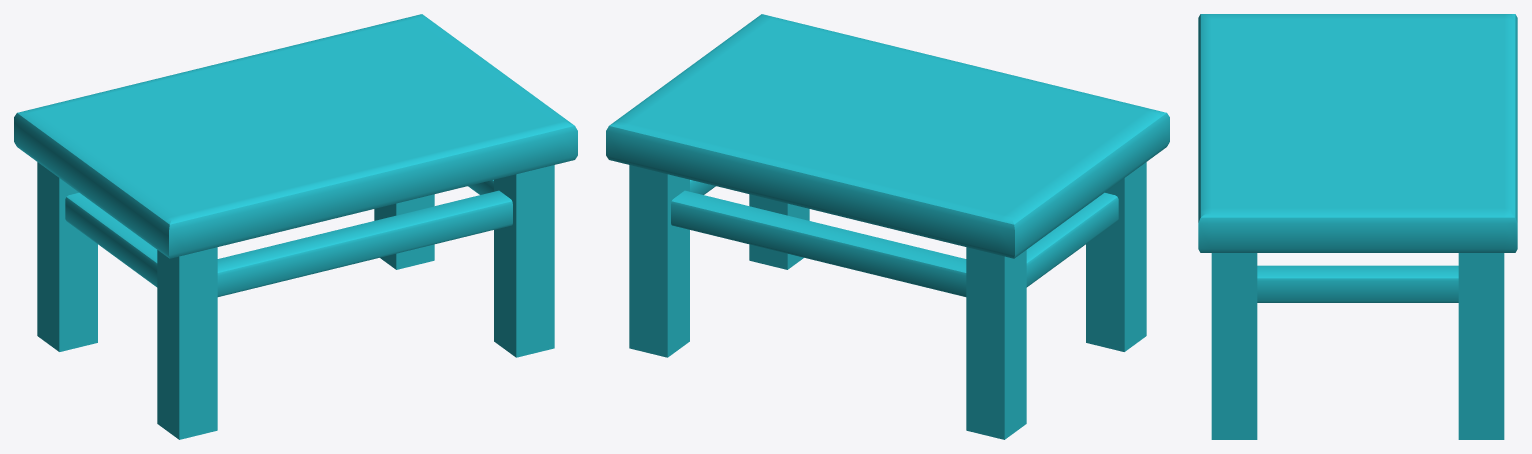
The model's file is table.fbx.
3 renders of one model, left to right at view 1: azimuth 30°, elevation 25°; view 2: azimuth 150°, elevation 25°; view 3: azimuth 270°, elevation 25°, orthographic. The views are drawn at different scales.
Visible parts, largest first — view 1: Cube.005; view 2: Cube.005; view 3: Cube.005.
Boxes of the visible parts, <box> form: Cube.005: <box>14,14,577,439</box>; Cube.005: <box>606,14,1169,439</box>; Cube.005: <box>1198,14,1517,439</box>.
Bounding box in the file's own units: 70.48 × 37.03 × 46.26.
Materials: 1 (1 with a texture image).
